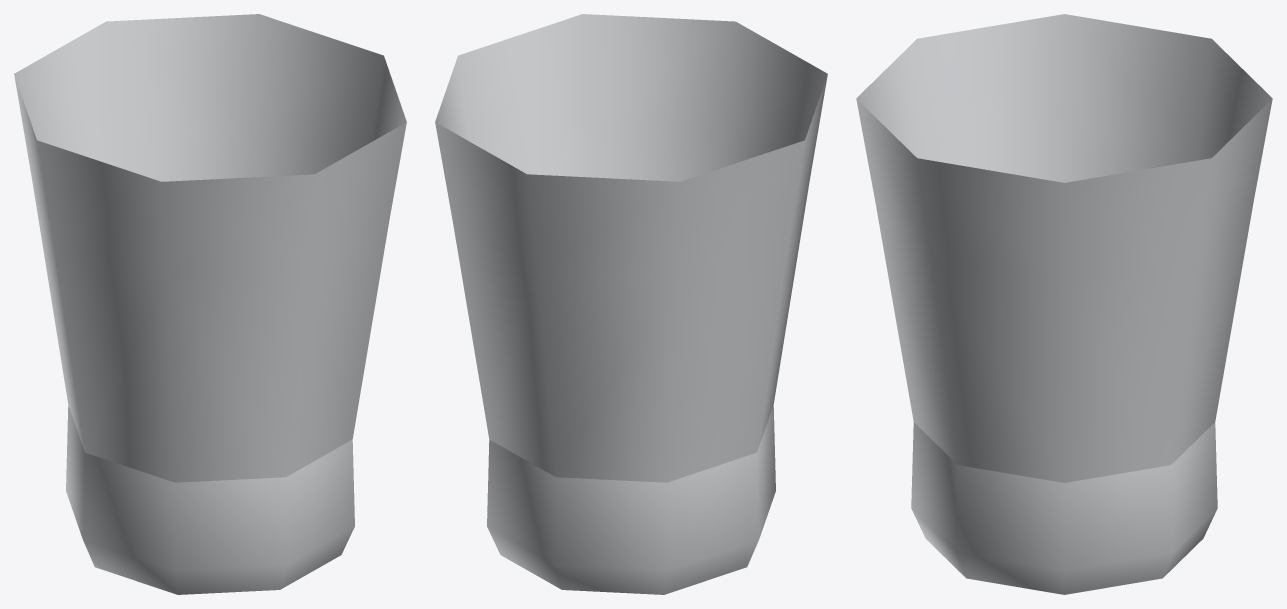
Rendered from shot-glass.glb.
The picture shows the model from 3 angles, left to right: view 1: azimuth 30°, elevation 25°; view 2: azimuth 150°, elevation 25°; view 3: azimuth 270°, elevation 25°; orthographic projection.
Visible parts, largest first — view 1: sercups_shot_glass_Cylinder.115; view 2: sercups_shot_glass_Cylinder.115; view 3: sercups_shot_glass_Cylinder.115.
Boxes of the visible parts, <box> form: sercups_shot_glass_Cylinder.115: <box>14,14,406,594</box>; sercups_shot_glass_Cylinder.115: <box>435,14,827,594</box>; sercups_shot_glass_Cylinder.115: <box>856,14,1272,594</box>.
Size of the model in its own units: 1.18 by 1.43 by 1.23.
Materials: 1 (1 with a texture image).
